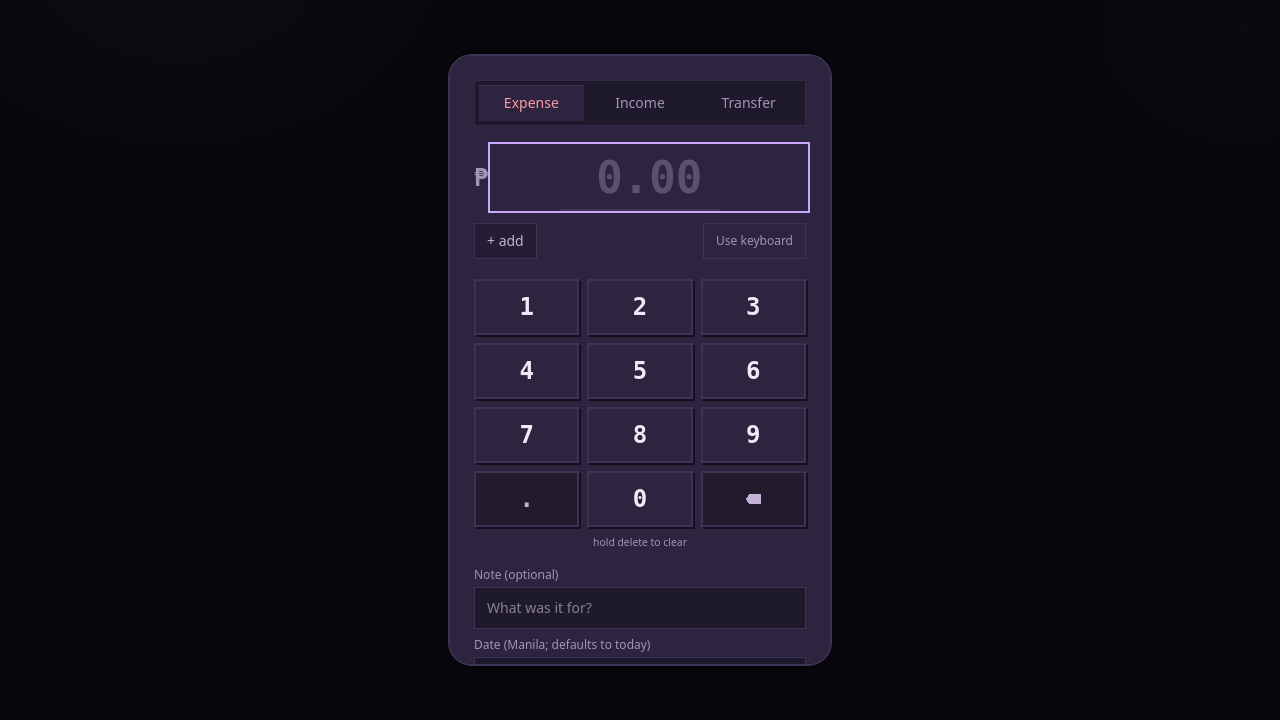
Scenario: AddSheet keypad (touch) › offers a way back to the keyboard, so a refusal is never the end of the road
The width and height of the screenshot is (1280, 720).
Click the button "Use keyboard". click: click(755, 241)
box: [703, 223, 806, 259]
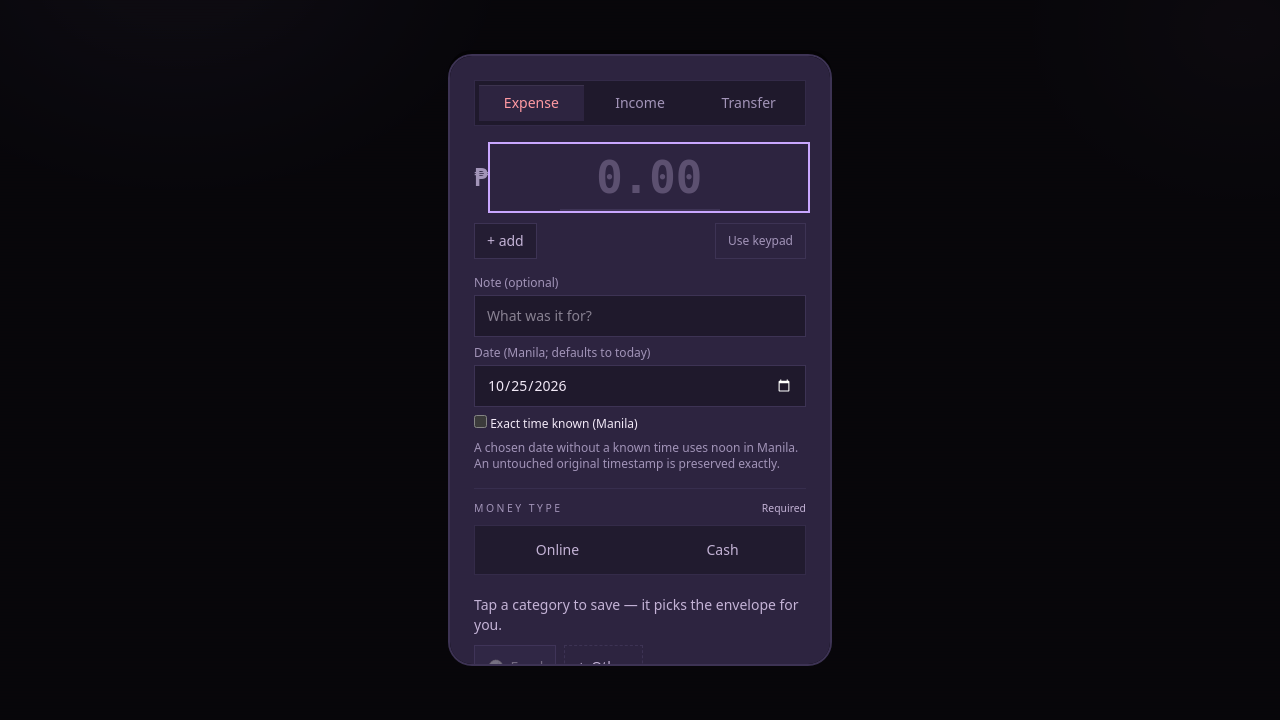
Check: the button "Use keypad" is shown, box [715, 223, 806, 259]
